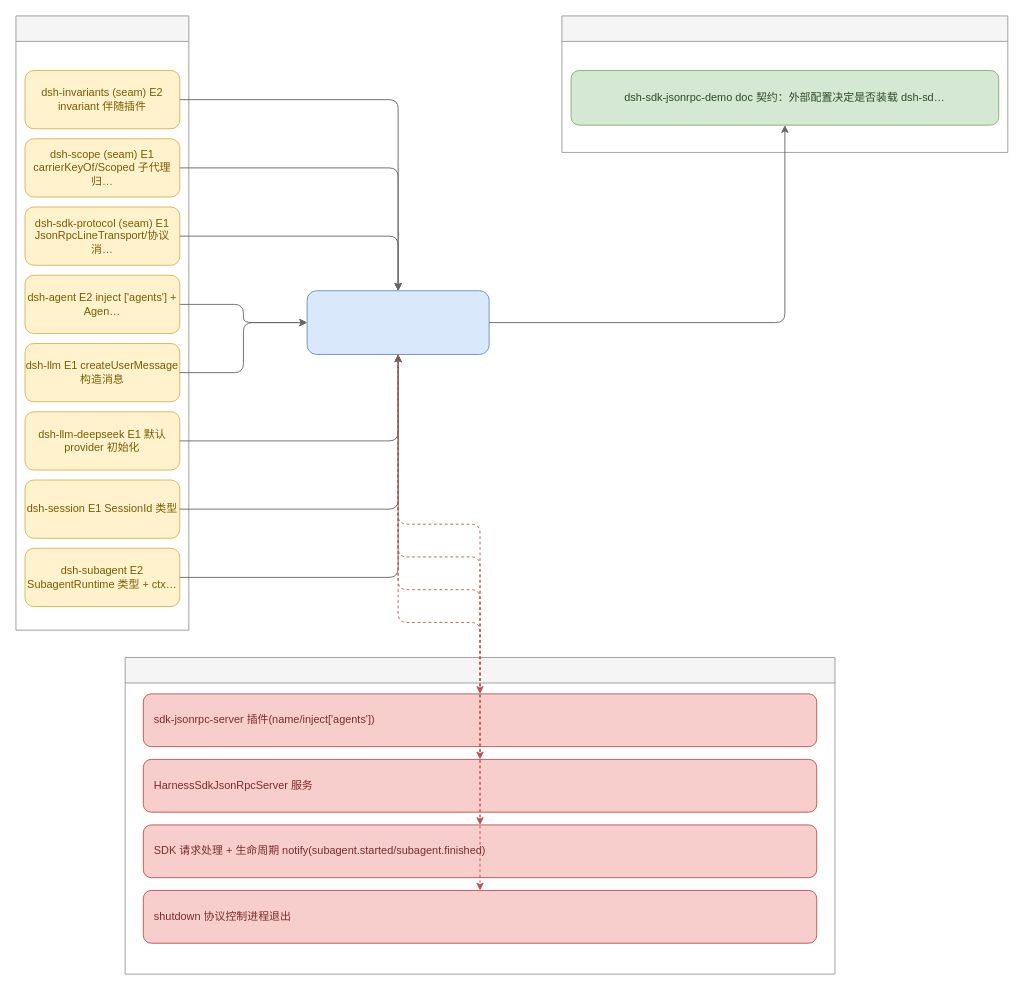
Image size: 1024x990. Some labels were removed from this diagram. The box of each missing label's shape, as (x1, y1, x2, y2) in pixels:
dsh-sdk-jsonrpc-server @deepseek-ai/dsh-sdk-jsonrpc-server: (306, 290, 489, 354)
上游依赖 upstream (E1/E2/E3): (15, 15, 189, 630)
下游被依赖 dependents: (561, 15, 1008, 152)
提供服务 provides（关键项）: (124, 657, 835, 974)
